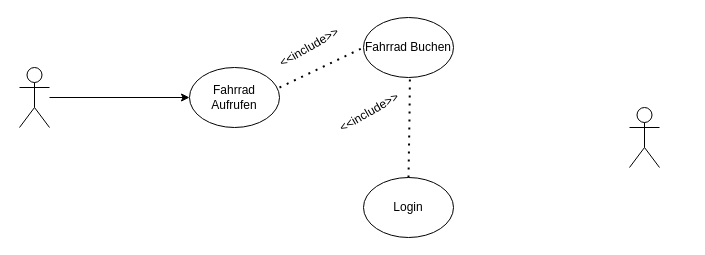
This 705x255 diagram has some shape labels left out. The shapes that lost their labels are listed below. From the top down, each one's centre as x and y in pixels, then its label:
At point 34,97: "Kunde".
At point 644,137: "MitarbeiterInnen".
